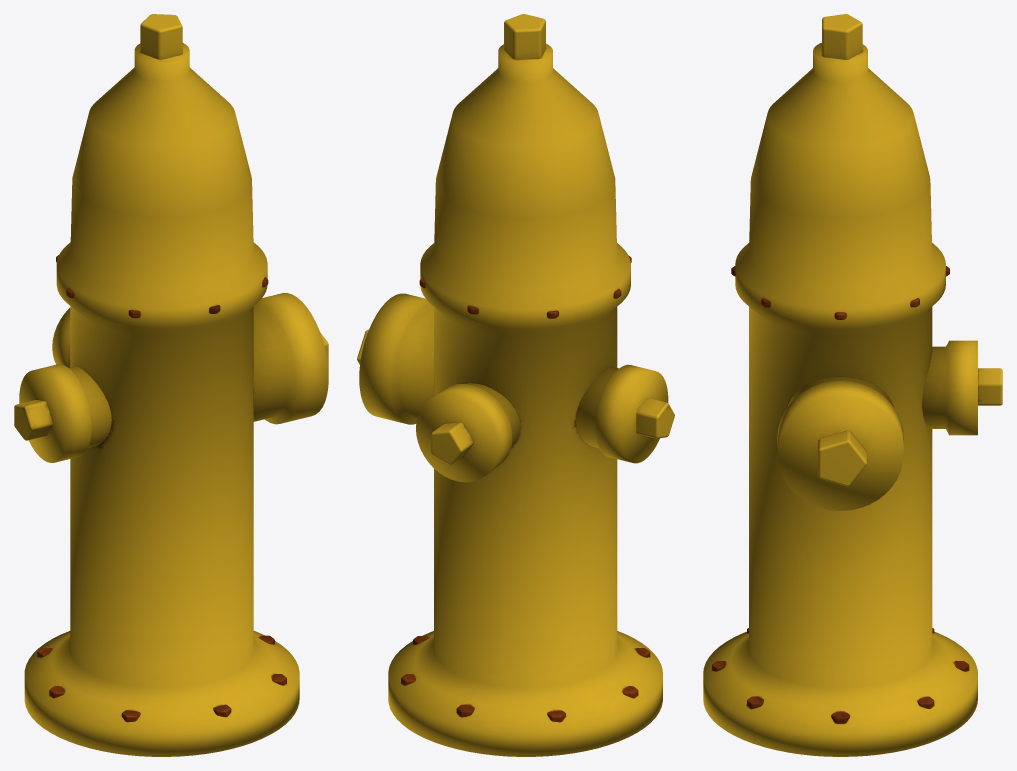
File: yellow-silver-caps.glb
3 renders of one model, left to right at view 1: azimuth 30°, elevation 25°; view 2: azimuth 150°, elevation 25°; view 3: azimuth 270°, elevation 25°, orthographic.
Parts seen in each view (by area): view 1: paint_primary, paint_secondary_caps; view 2: paint_primary, paint_secondary_caps; view 3: paint_primary, paint_secondary_caps.
Part boxes in pixels (x1,y1,x2,y2): paint_primary: [19, 43, 328, 756]; paint_secondary_caps: [14, 14, 328, 440]; paint_primary: [359, 43, 668, 756]; paint_secondary_caps: [357, 14, 674, 464]; paint_primary: [703, 42, 977, 756]; paint_secondary_caps: [818, 14, 1002, 486].
Size of the model in its own units: 0.374 by 0.815 by 0.327.
Materials: 2 (2 with a texture image).
